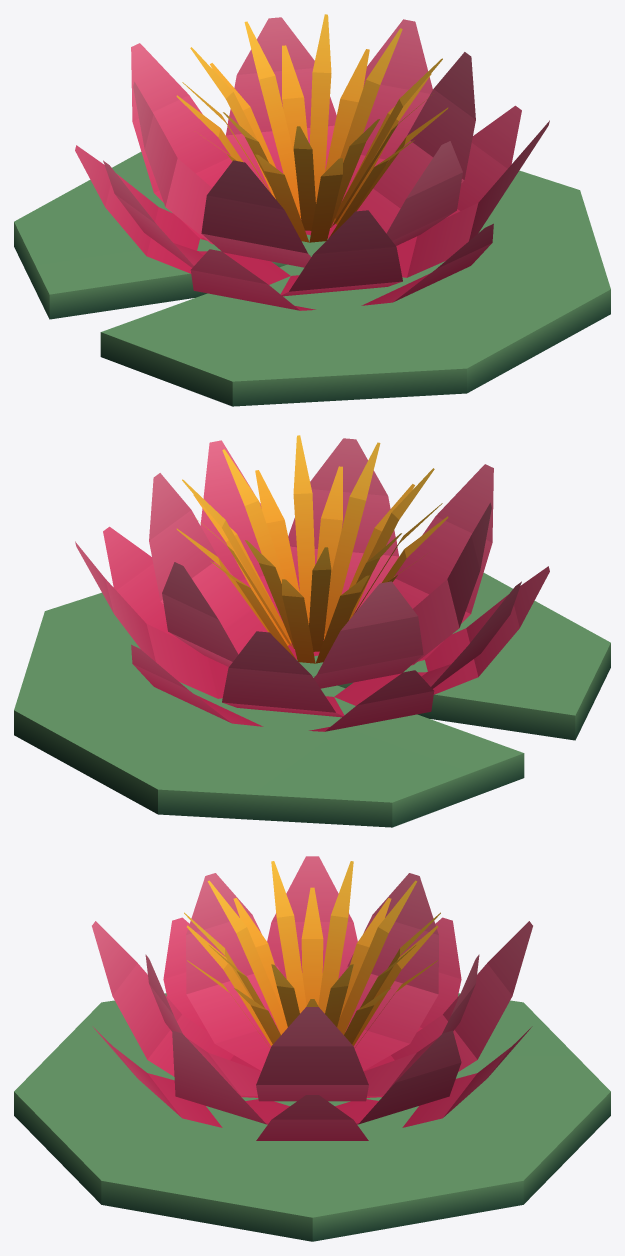
File: lilypadFlower.fbx
The picture shows the model from 3 angles, top to bottom: view 1: azimuth 30°, elevation 25°; view 2: azimuth 150°, elevation 25°; view 3: azimuth 270°, elevation 25°; orthographic projection. The views are drawn at different scales.
Visible parts, largest first — view 1: lilypadFlower; view 2: lilypadFlower; view 3: lilypadFlower.
Part boxes in pixels (x1,y1,x2,y2): lilypadFlower: [14, 14, 610, 406]; lilypadFlower: [14, 435, 610, 827]; lilypadFlower: [14, 856, 610, 1241].
Size of the model in its own units: 106 by 42.08 by 112.
